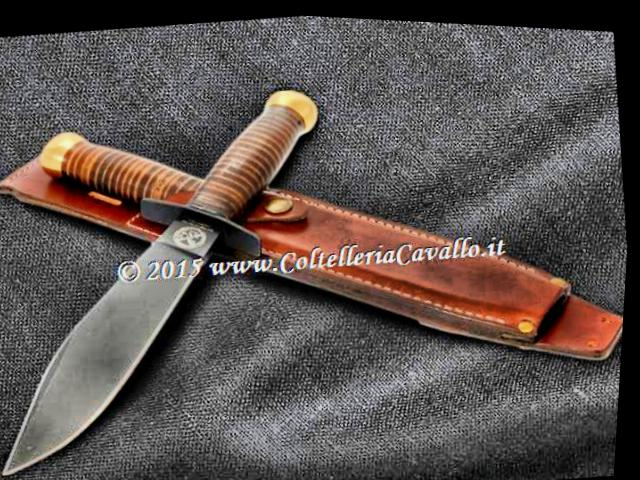knife: (0, 191, 255, 480)
